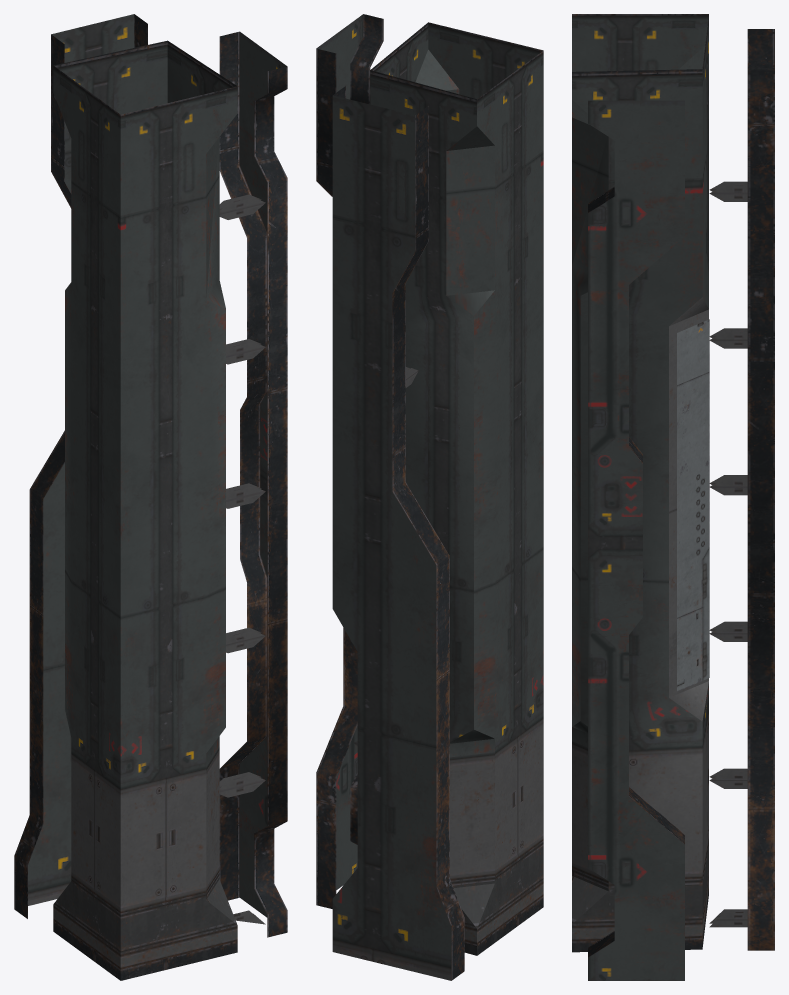
Rendered from ARC0910171.fbx.
3 views of the same model, side by side, from view 1: azimuth 30°, elevation 25°; view 2: azimuth 150°, elevation 25°; view 3: azimuth 270°, elevation 25° (orthographic). The views are drawn at different scales.
Parts seen in each view (by area): view 1: smARC0910171; view 2: smARC0910171; view 3: smARC0910171.
Part boxes in pixels (box(x1,y1,x2,y2)): smARC0910171: box(14, 14, 287, 980); smARC0910171: box(316, 14, 543, 980); smARC0910171: box(572, 14, 774, 980).
Size of the model in its own units: 65.63 by 300 by 62.68.
Materials: 1 (1 with a texture image).
